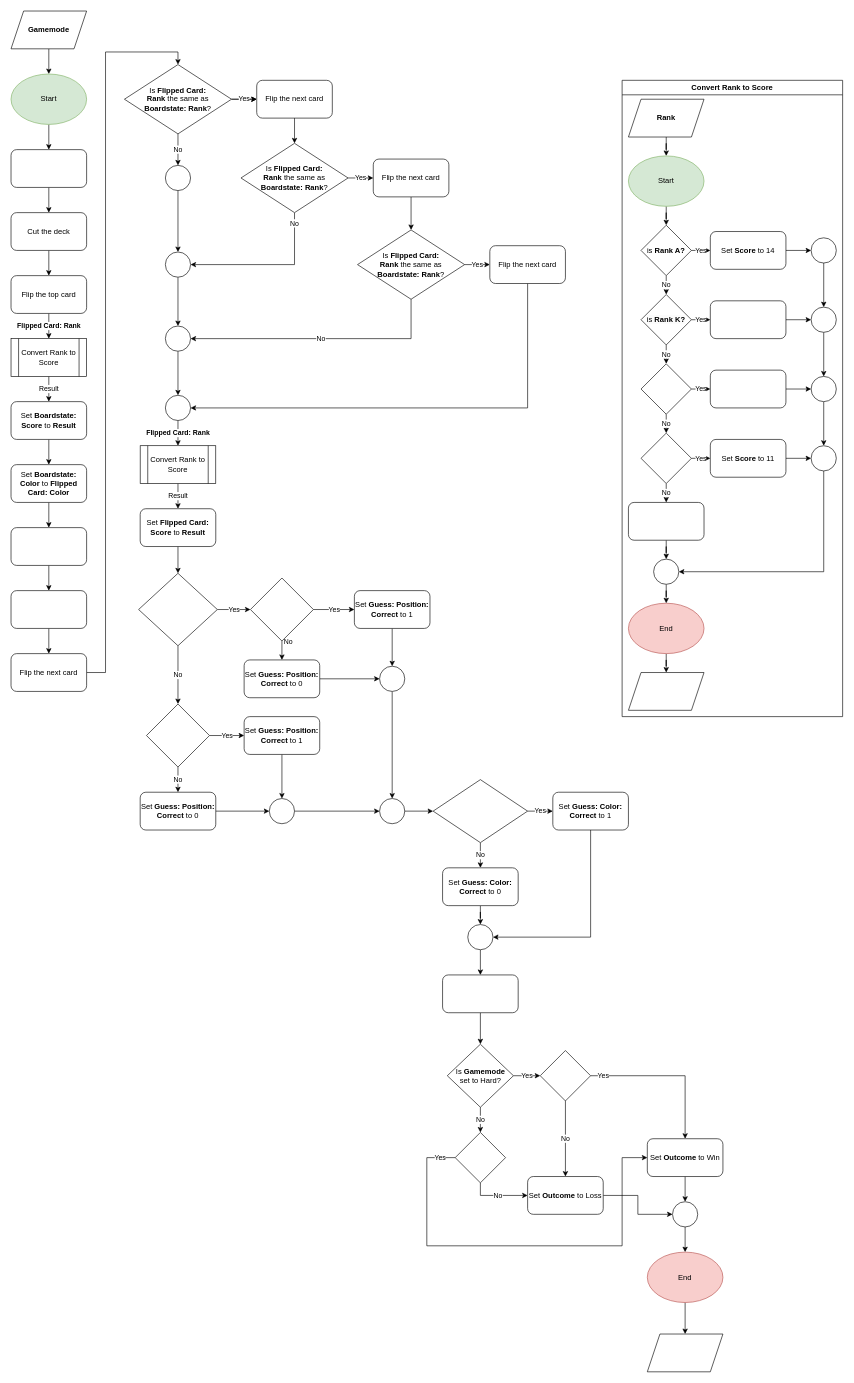
Some shapes in this 854 by 1383 pixel diagram are drawn without their labels. The shapes that lost their labels are listed below. From the top down, each one's box as (x1, y1, x2, y2) in pixels, then its label:
(10, 149, 87, 187): Shuffle the deck
(710, 300, 786, 339): Set Score to 13
(640, 363, 691, 414): is Rank Q?
(710, 369, 786, 408): Set Score to 12
(640, 432, 691, 484): is Rank J?
(628, 502, 704, 540): Set Score to Rank
(10, 527, 87, 565): Set Guess: Color to Colin's guess
(10, 590, 87, 628): Set Guess: Position to Ruby's Guess
(138, 573, 217, 646): Is Boardstate: Score Higher than Flipped Card: Score ?
(250, 577, 313, 641): Is Guess: Position Higher?
(628, 672, 704, 710): Score
(146, 703, 209, 767): Is Guess: Position Lower?
(432, 779, 528, 843): Is Flipped Card: Color the same as Guess: Color ?
(442, 974, 518, 1013): Set Points to Guess: Color: Correct + Guess: Position: Correct
(540, 1050, 591, 1101): Is Points >1?
(455, 1132, 506, 1183): Is Points >0?
(647, 1333, 723, 1372): Outcome
